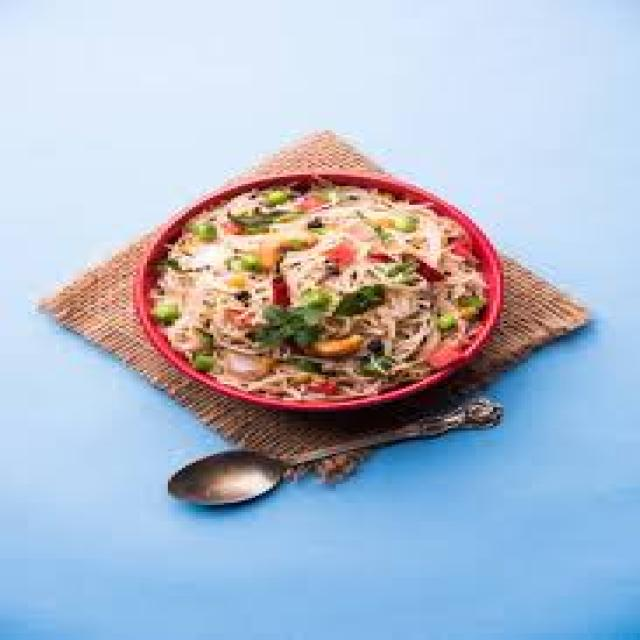POHA: (147, 182, 483, 393)
